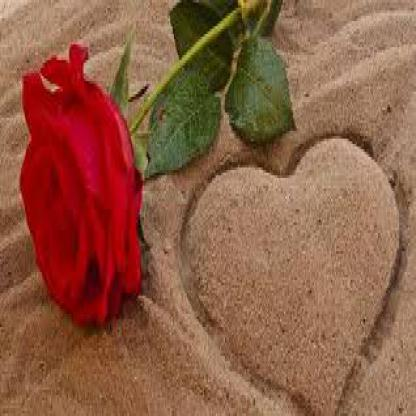Rose-Mawar: (15, 30, 145, 328)
